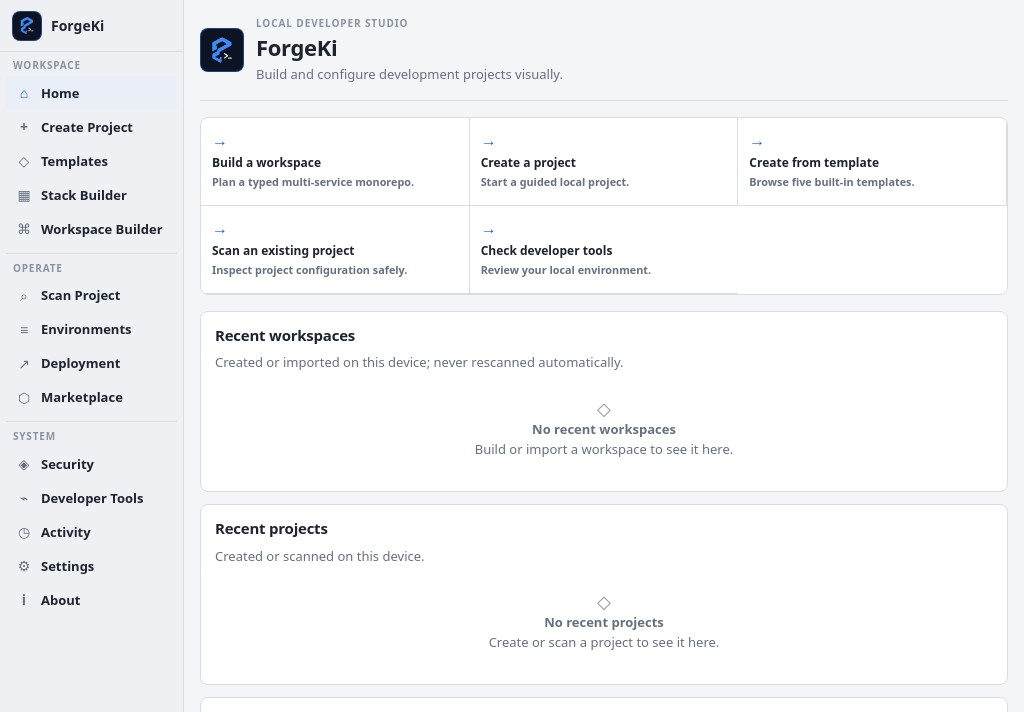
desktop application shell › opens Scan Project from the sidebar
The width and height of the screenshot is (1024, 712).
Click the button "⌕ Scan Project". click: [92, 295]
box: [6,278,177,312]
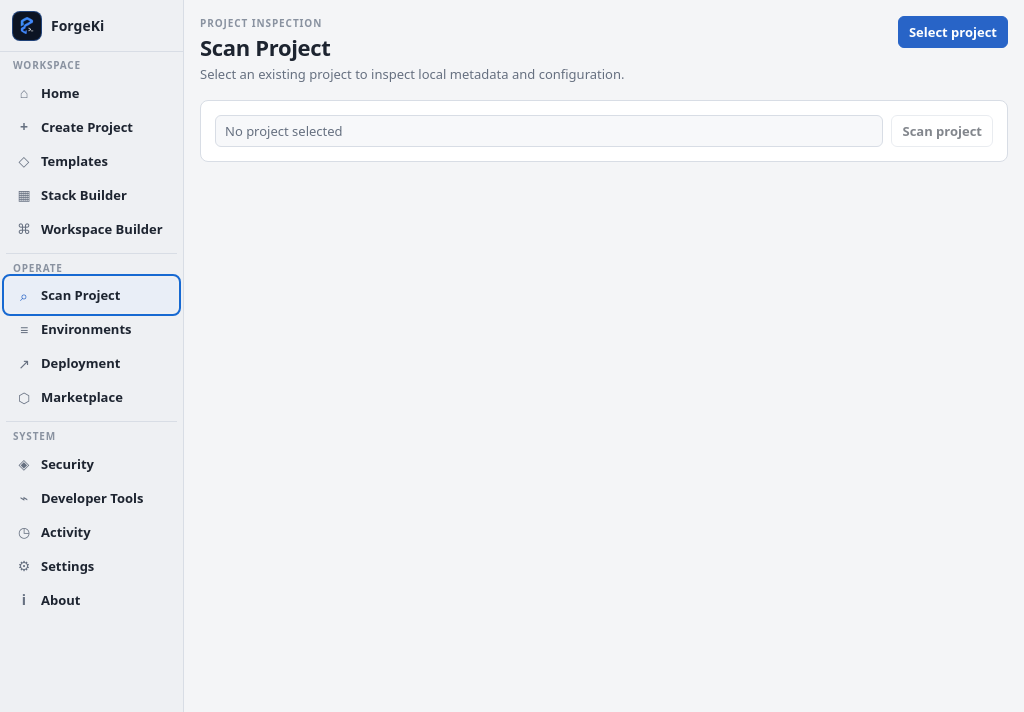
Check: the heading "Scan Project" is shown, box [200,32,330,62]
